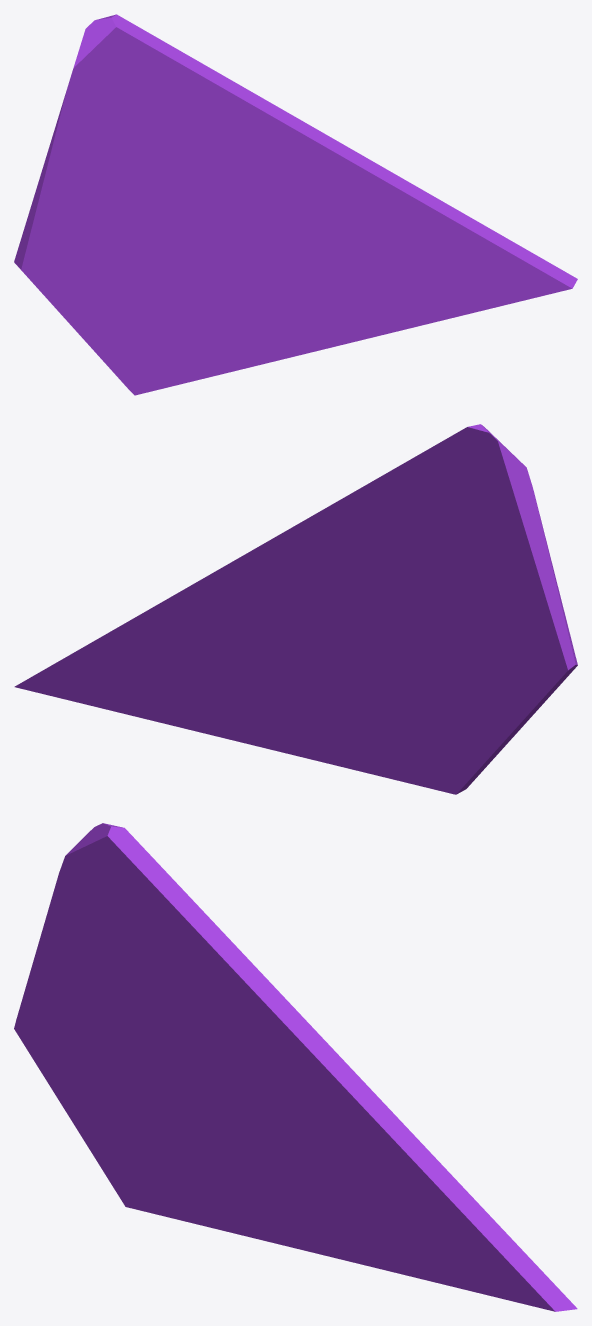
The model's file is Glass_1_4_chunks.fbx.
3 renders of one model, top to bottom at view 1: azimuth 30°, elevation 25°; view 2: azimuth 150°, elevation 25°; view 3: azimuth 330°, elevation 25°, orthographic.
Parts seen in each view (by area): view 1: Glass_1_4_8, Glass_1_4_0, Glass_1_4_2, Glass_1_4_4, Glass_1_4_3, Glass_1_4_6, Glass_1_4_5, Glass_1_4_7, Glass_1_4_9, Glass_1_4_1; view 2: Glass_1_4_0, Glass_1_4_2, Glass_1_4_8, Glass_1_4_5, Glass_1_4_4, Glass_1_4_6, Glass_1_4_7, Glass_1_4_3, Glass_1_4_9; view 3: Glass_1_4_8, Glass_1_4_2, Glass_1_4_0, Glass_1_4_4, Glass_1_4_3, Glass_1_4_6, Glass_1_4_5, Glass_1_4_7, Glass_1_4_9, Glass_1_4_1.
Boxes of the visible parts, x1=… form: Glass_1_4_8: x1=324, y1=175, x2=577, y2=324; Glass_1_4_0: x1=14, y1=102, x2=141, y2=360; Glass_1_4_2: x1=63, y1=14, x2=273, y2=170; Glass_1_4_4: x1=134, y1=260, x2=398, y2=395; Glass_1_4_3: x1=130, y1=115, x2=274, y2=271; Glass_1_4_6: x1=231, y1=105, x2=331, y2=278; Glass_1_4_5: x1=100, y1=264, x2=210, y2=394; Glass_1_4_7: x1=277, y1=238, x2=425, y2=330; Glass_1_4_9: x1=281, y1=109, x2=397, y2=210; Glass_1_4_1: x1=133, y1=160, x2=166, y2=223; Glass_1_4_0: x1=435, y1=501, x2=577, y2=761; Glass_1_4_2: x1=313, y1=424, x2=536, y2=577; Glass_1_4_8: x1=14, y1=585, x2=253, y2=720; Glass_1_4_5: x1=364, y1=646, x2=495, y2=794; Glass_1_4_4: x1=218, y1=675, x2=435, y2=789; Glass_1_4_6: x1=274, y1=515, x2=371, y2=685; Glass_1_4_7: x1=152, y1=632, x2=336, y2=736; Glass_1_4_3: x1=332, y1=525, x2=453, y2=652; Glass_1_4_9: x1=191, y1=519, x2=305, y2=634; Glass_1_4_8: x1=312, y1=1106, x2=577, y2=1311; Glass_1_4_2: x1=55, y1=823, x2=278, y2=1000; Glass_1_4_0: x1=14, y1=885, x2=131, y2=1157; Glass_1_4_4: x1=125, y1=1119, x2=384, y2=1269; Glass_1_4_3: x1=121, y1=998, x2=263, y2=1121; Glass_1_4_6: x1=220, y1=992, x2=318, y2=1160; Glass_1_4_5: x1=95, y1=1076, x2=199, y2=1205; Glass_1_4_7: x1=265, y1=1143, x2=411, y2=1276; Glass_1_4_9: x1=286, y1=999, x2=400, y2=1120; Glass_1_4_1: x1=124, y1=975, x2=156, y2=1041.
Bounding box in the file's own units: 1035 × 661 × 27.2.
